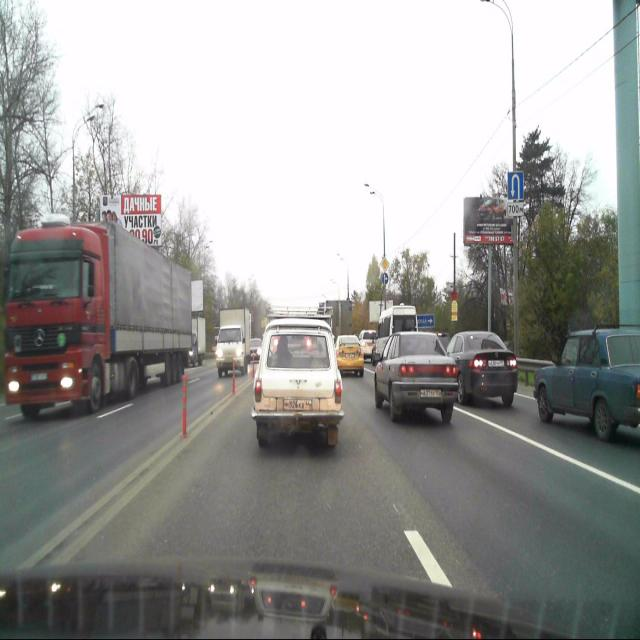road sign: (507, 172, 522, 200), (380, 257, 389, 272)
